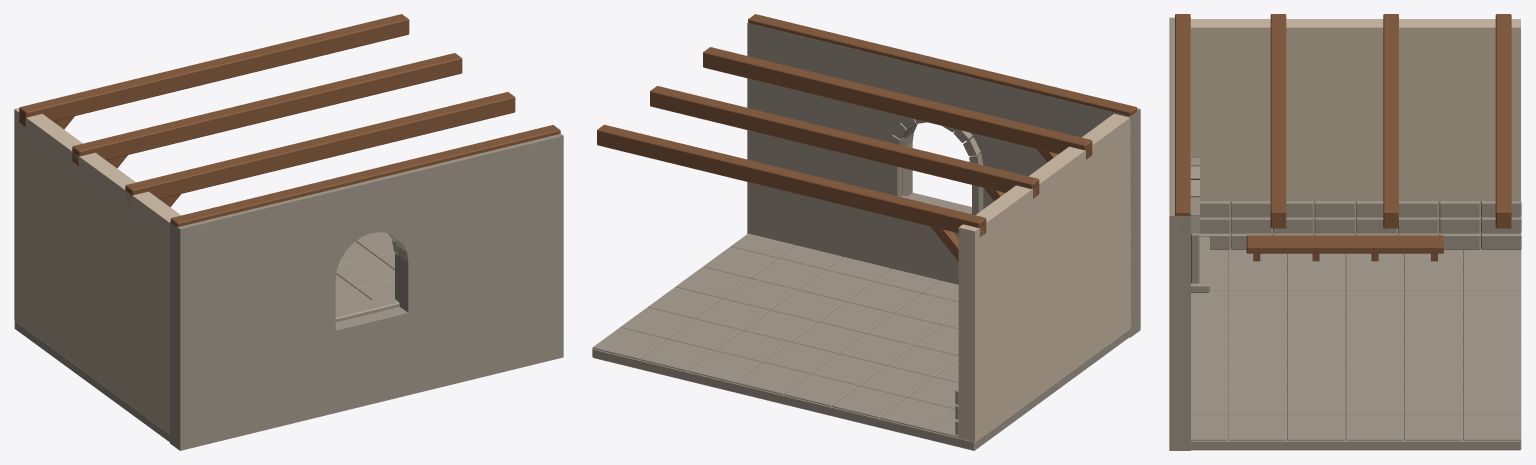
The model's file is mint-interior.glb.
The picture shows the model from 3 angles, left to right: view 1: azimuth 30°, elevation 25°; view 2: azimuth 150°, elevation 25°; view 3: azimuth 270°, elevation 25°; orthographic projection. The views are drawn at different scales.
Parts seen in each view (by area): view 1: Board.049, Board.050, Board.055, Board.080, Board.082, Board.084, Board.051, Board.086, Board, Board.015, Board.054, Board.008 (+4 smaller); view 2: Board.055, Board.050, Board.080, Board.082, Board.084, Board.049, Board, Board.086, Board.051, Board.005, Board.008, Board.004 (+32 smaller); view 3: Board.055, Board.050, Board, Board.091, Board.084, Board.080, Board.082, Board.086, Board.016, Board.024, Board.012, Board.013 (+65 smaller).
Boxes of the visible parts, <box> form: Board.049: <box>170,189,335,450</box>; Board.050: <box>398,133,563,395</box>; Board.055: <box>14,108,180,433</box>; Board.080: <box>19,14,409,126</box>; Board.082: <box>72,53,462,165</box>; Board.084: <box>125,92,515,202</box>; Board.051: <box>335,307,408,412</box>; Board.086: <box>170,125,560,226</box>; Board: <box>14,257,562,449</box>; Board.015: <box>336,257,394,289</box>; Board.054: <box>335,294,399,322</box>; Board.008: <box>356,232,395,257</box>; Board.055: <box>958,113,1131,442</box>; Board.050: <box>747,23,912,270</box>; Board.080: <box>597,124,986,237</box>; Board.082: <box>650,86,1039,198</box>; Board.084: <box>703,47,1092,159</box>; Board.049: <box>975,78,1140,337</box>; Board: <box>592,258,1135,450</box>; Board.086: <box>748,14,1137,115</box>; Board.051: <box>902,192,971,284</box>; Board.005: <box>736,362,809,394</box>; Board.008: <box>592,327,666,359</box>; Board.004: <box>784,374,857,406</box>; Board.055: <box>1191,19,1520,250</box>; Board.050: <box>1169,135,1190,450</box>; Board: <box>1170,250,1521,450</box>; Board.091: <box>1246,235,1443,253</box>; Board.084: <box>1270,14,1286,228</box>; Board.080: <box>1495,14,1511,228</box>; Board.082: <box>1383,14,1398,228</box>; Board.086: <box>1175,14,1190,227</box>; Board.016: <box>1404,415,1462,440</box>; Board.024: <box>1345,415,1403,440</box>; Board.012: <box>1404,315,1462,340</box>; Board.013: <box>1404,340,1462,365</box>.
Size of the model in its own units: 8 by 4.5 by 6.01.
